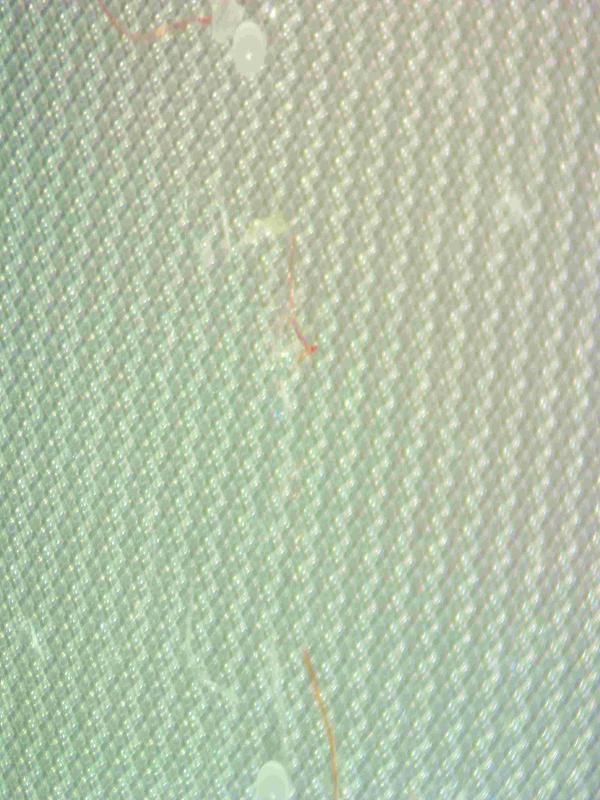microplastic: (1, 1, 599, 798), (283, 233, 318, 364)
